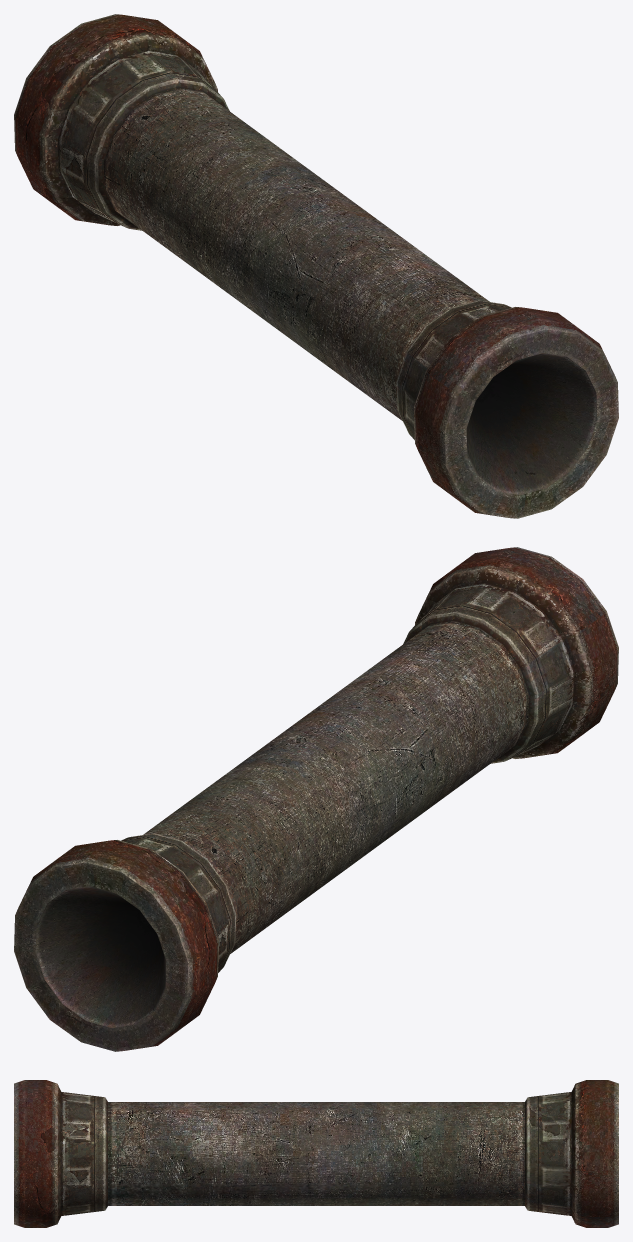
File: pipe_large_short_tau.dae
3 views of the same model, one above another, from view 1: azimuth 30°, elevation 25°; view 2: azimuth 150°, elevation 25°; view 3: azimuth 270°, elevation 25° (orthographic). The views are drawn at different scales.
Parts seen in each view (by area): view 1: polySurface2; view 2: polySurface2; view 3: polySurface2.
Part boxes in pixels (<box>): polySurface2: <box>14,14,618,518</box>; polySurface2: <box>14,547,618,1051</box>; polySurface2: <box>14,1080,618,1227</box>.
Size of the model in its own units: 0.4907 by 0.4907 by 2.
